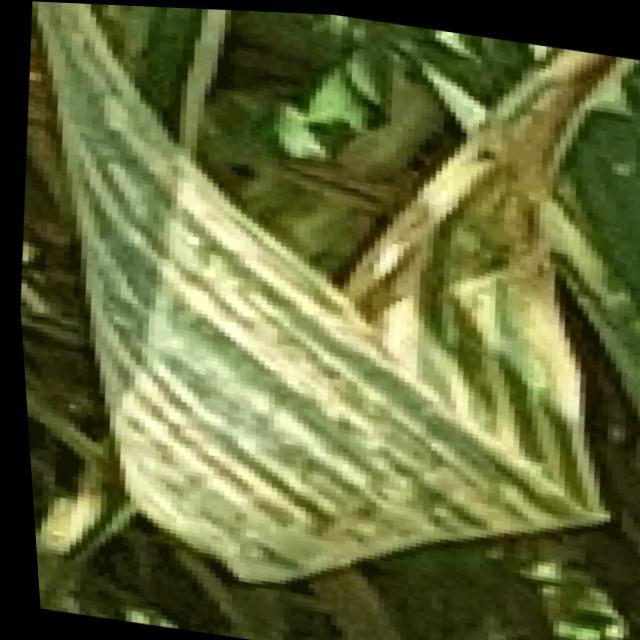Yellow_Rust: (63, 54, 615, 593)
